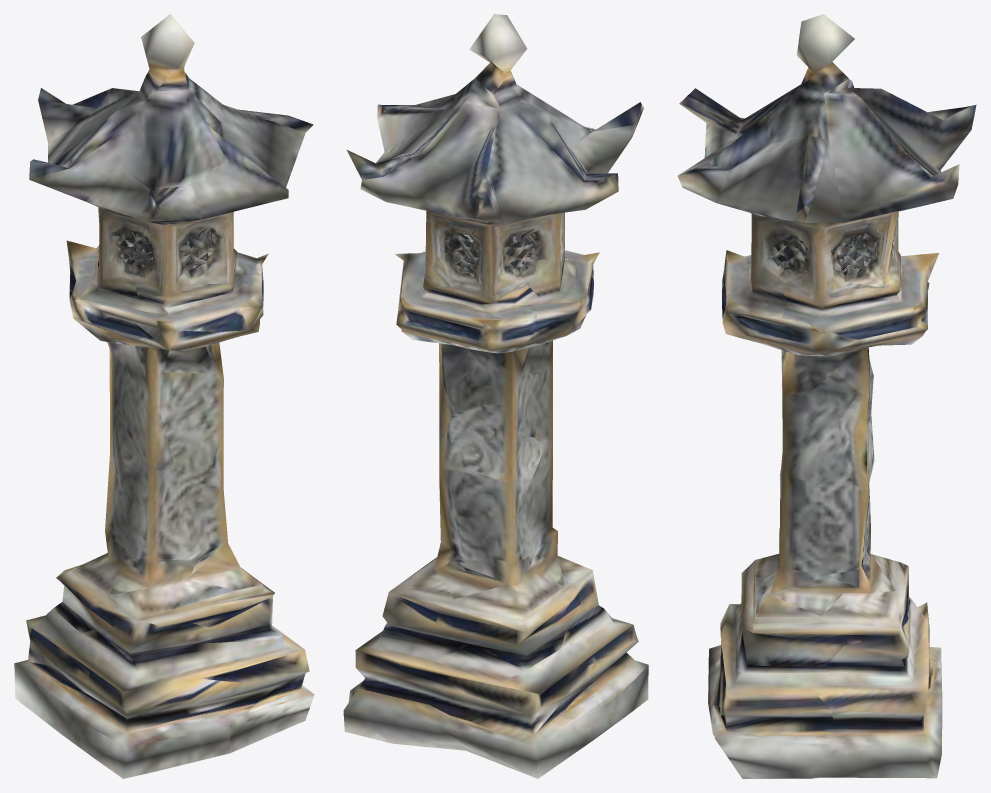
The model's file is stone_lantern.lod1.glb.
3 views of the same model, side by side, from view 1: azimuth 30°, elevation 25°; view 2: azimuth 150°, elevation 25°; view 3: azimuth 270°, elevation 25° (orthographic). The views are drawn at different scales.
Visible parts, largest first — view 1: tripo_node_c246a646-b8d3-4665-a212-e30ffd54bd00; view 2: tripo_node_c246a646-b8d3-4665-a212-e30ffd54bd00; view 3: tripo_node_c246a646-b8d3-4665-a212-e30ffd54bd00.
Boxes of the visible parts, x1,y1,x2,y2 form: tripo_node_c246a646-b8d3-4665-a212-e30ffd54bd00: (14, 14, 314, 778); tripo_node_c246a646-b8d3-4665-a212-e30ffd54bd00: (343, 14, 648, 778); tripo_node_c246a646-b8d3-4665-a212-e30ffd54bd00: (677, 14, 976, 778).
Size of the model in its own units: 0.3926 by 1 by 0.3779.
1 material, 1 textured.
